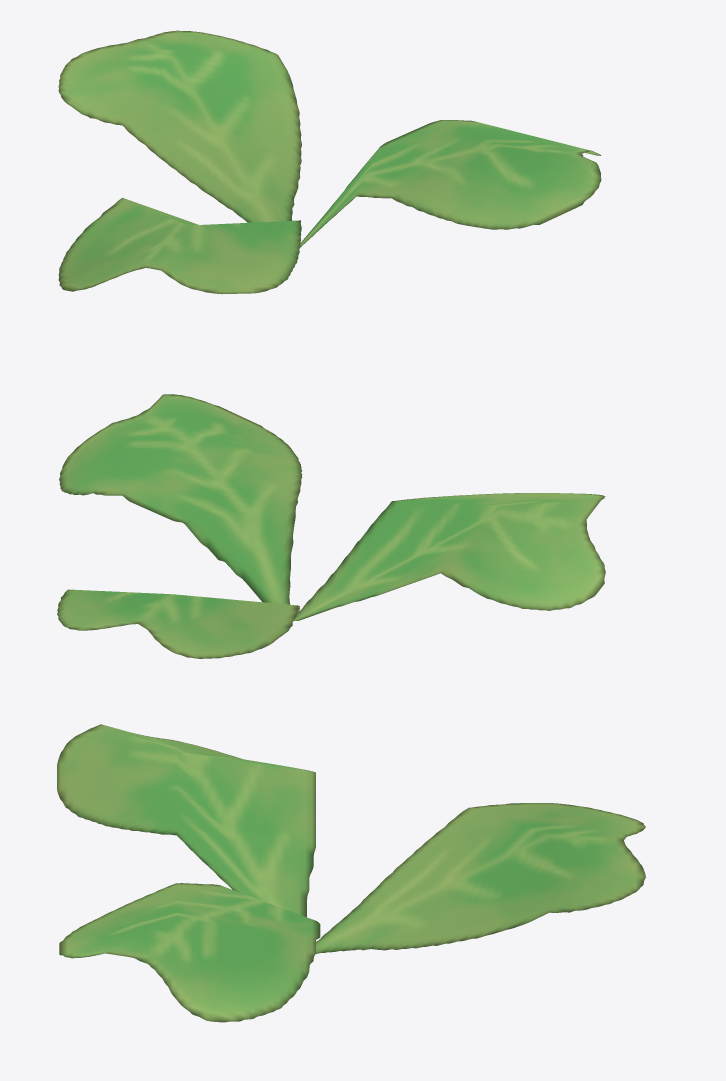
File: LeafSetD_3.fbx
3 renders of one model, top to bottom at view 1: azimuth 30°, elevation 25°; view 2: azimuth 150°, elevation 25°; view 3: azimuth 270°, elevation 25°, orthographic. The views are drawn at different scales.
Visible parts, largest first — view 1: LeafSetD_3; view 2: LeafSetD_3; view 3: LeafSetD_3.
Part boxes in pixels (x1,y1,x2,y2): LeafSetD_3: (58, 30, 601, 294); LeafSetD_3: (57, 394, 605, 658); LeafSetD_3: (57, 724, 645, 1022).
Bounding box in the file's own units: 0.2743 × 0.0508 × 0.2656.
